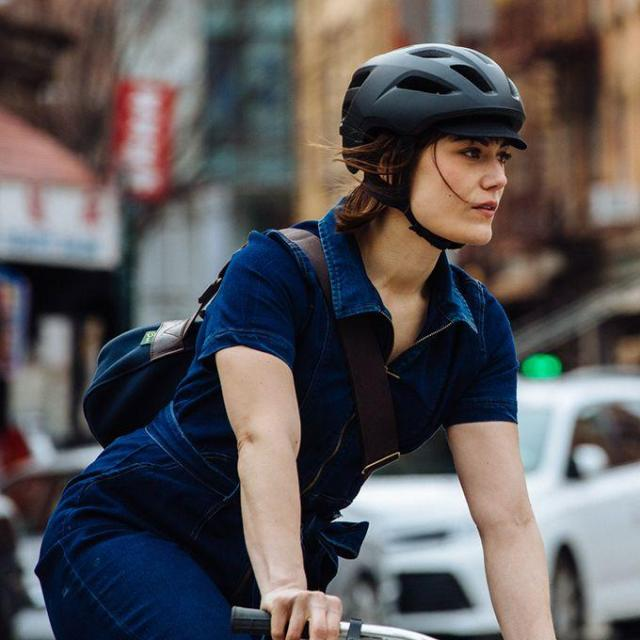Helmet: (339, 41, 529, 246)
